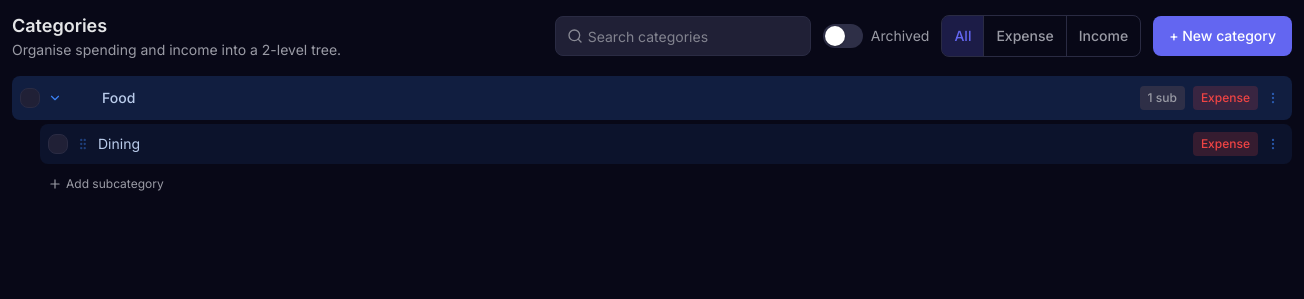
Test case: Categories page › Promote is enabled when only subcategories are selected
Click the checkbox named "Select Dining": (58, 144) [48, 134, 68, 154]
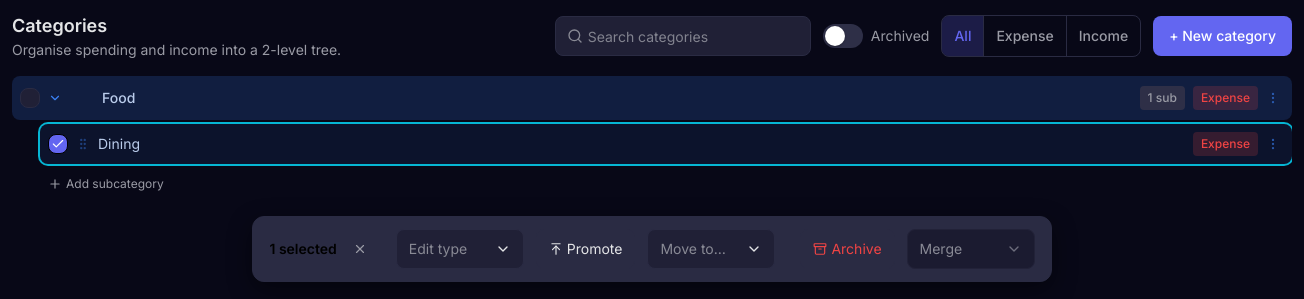
Result: the button with test id "bulk-action-promote" is enabled at [536, 229, 635, 269]
